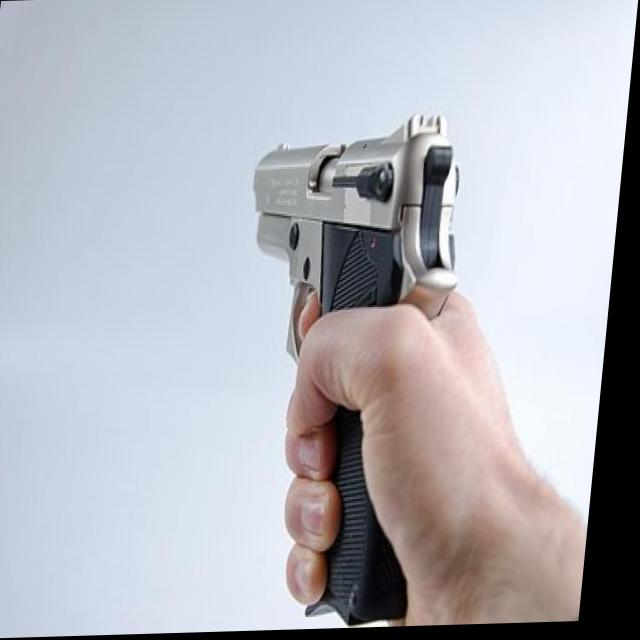handgun: (222, 116, 475, 633)
